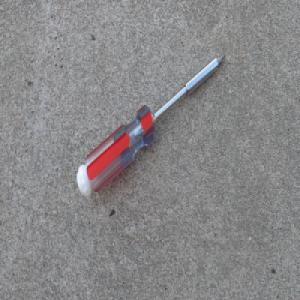Screwdriver: (74, 53, 226, 201)
